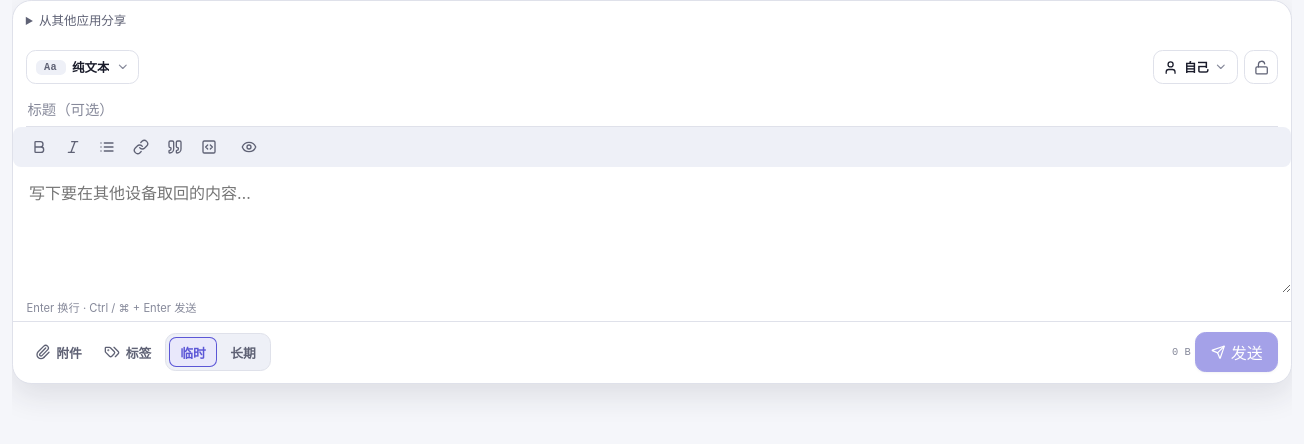
Test case: MessageComposer › preserves a new recipient draft when the pending direct send succeeds
Click the button with aria-label "接收人": [1196, 67] box 1153,50 -> 1238,84
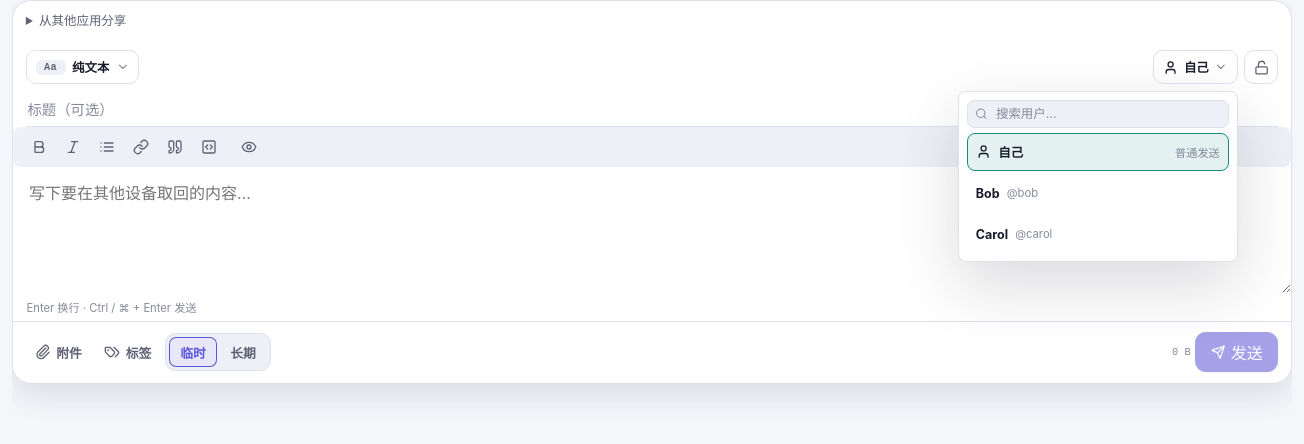
Expected: the option "Bob @bob" is shown
Click the option "Bob @bob": [1022, 193] box 967,174 -> 1229,212
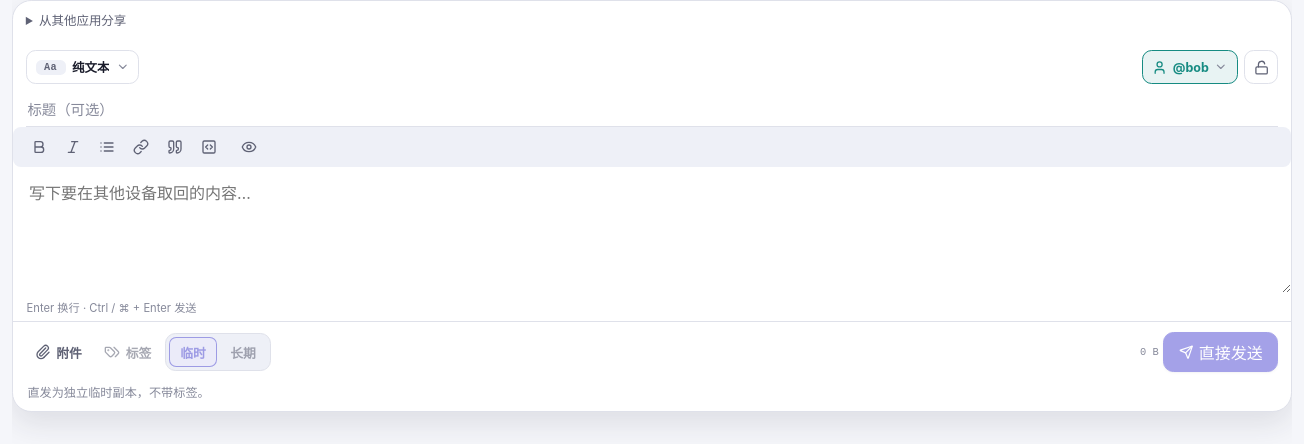
In the text box with placeholder "写下要在其他设备取回的内容…": [652, 230] box 13,167 -> 1291,293, type "keep this draft"
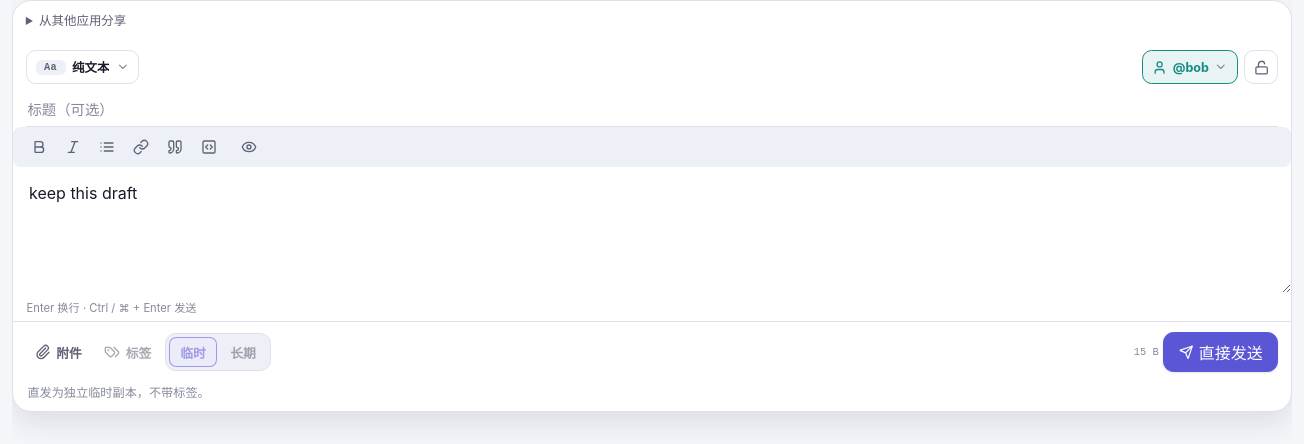
Click the button "直接发送": [1221, 352] box 1163,332 -> 1278,372
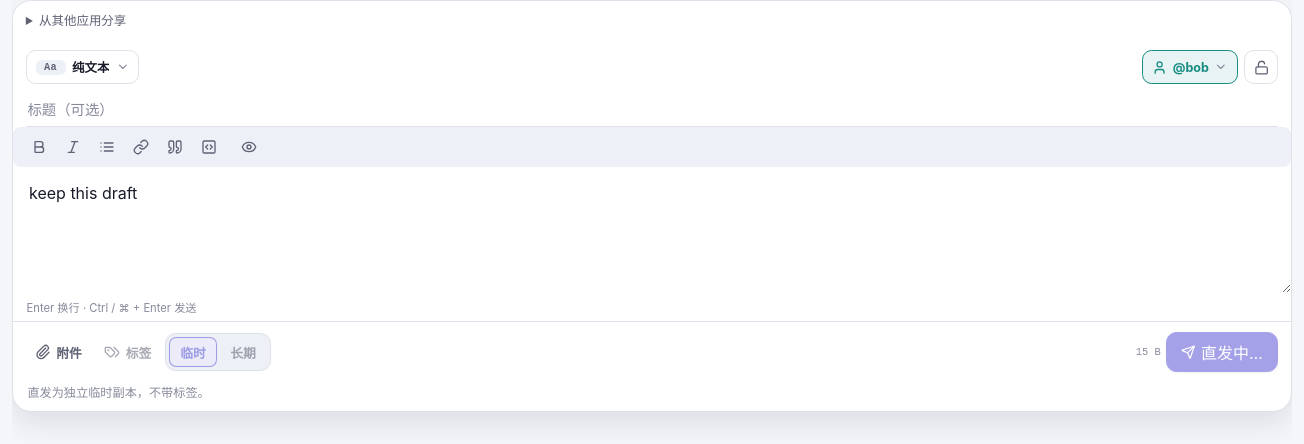
Click the button with aria-label "接收人": [1190, 67] box 1142,50 -> 1238,84
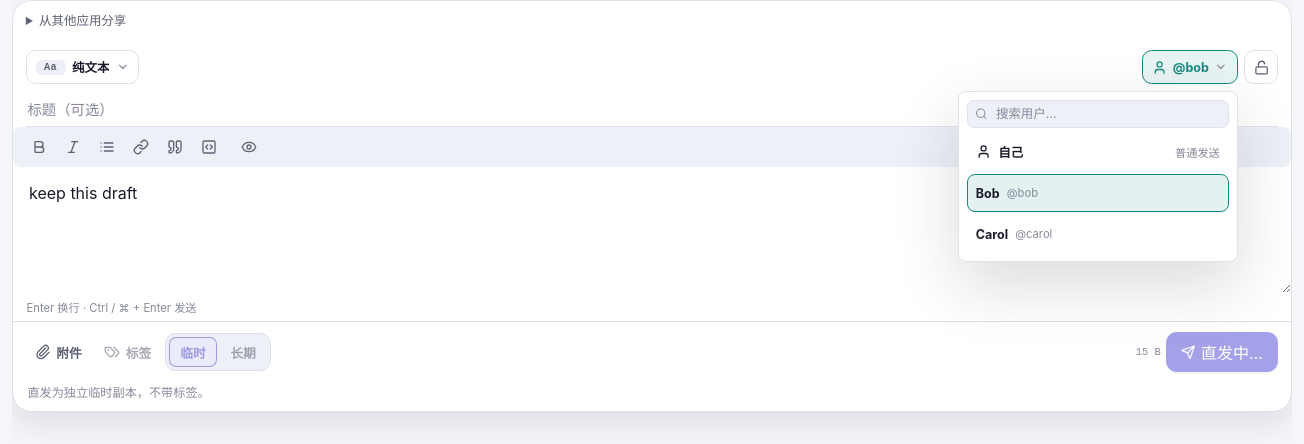
Expected: the option "Carol @carol" is shown
Click the option "Carol @carol": [992, 234] box 967,215 -> 1229,253
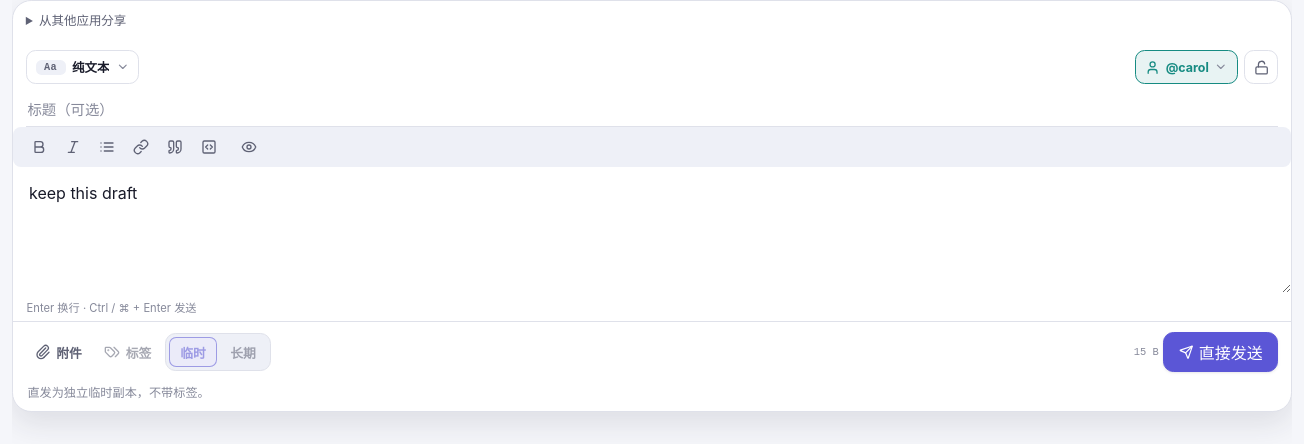
Expected: the button with aria-label "接收人" reads "@carol", 1135,50 -> 1238,84
